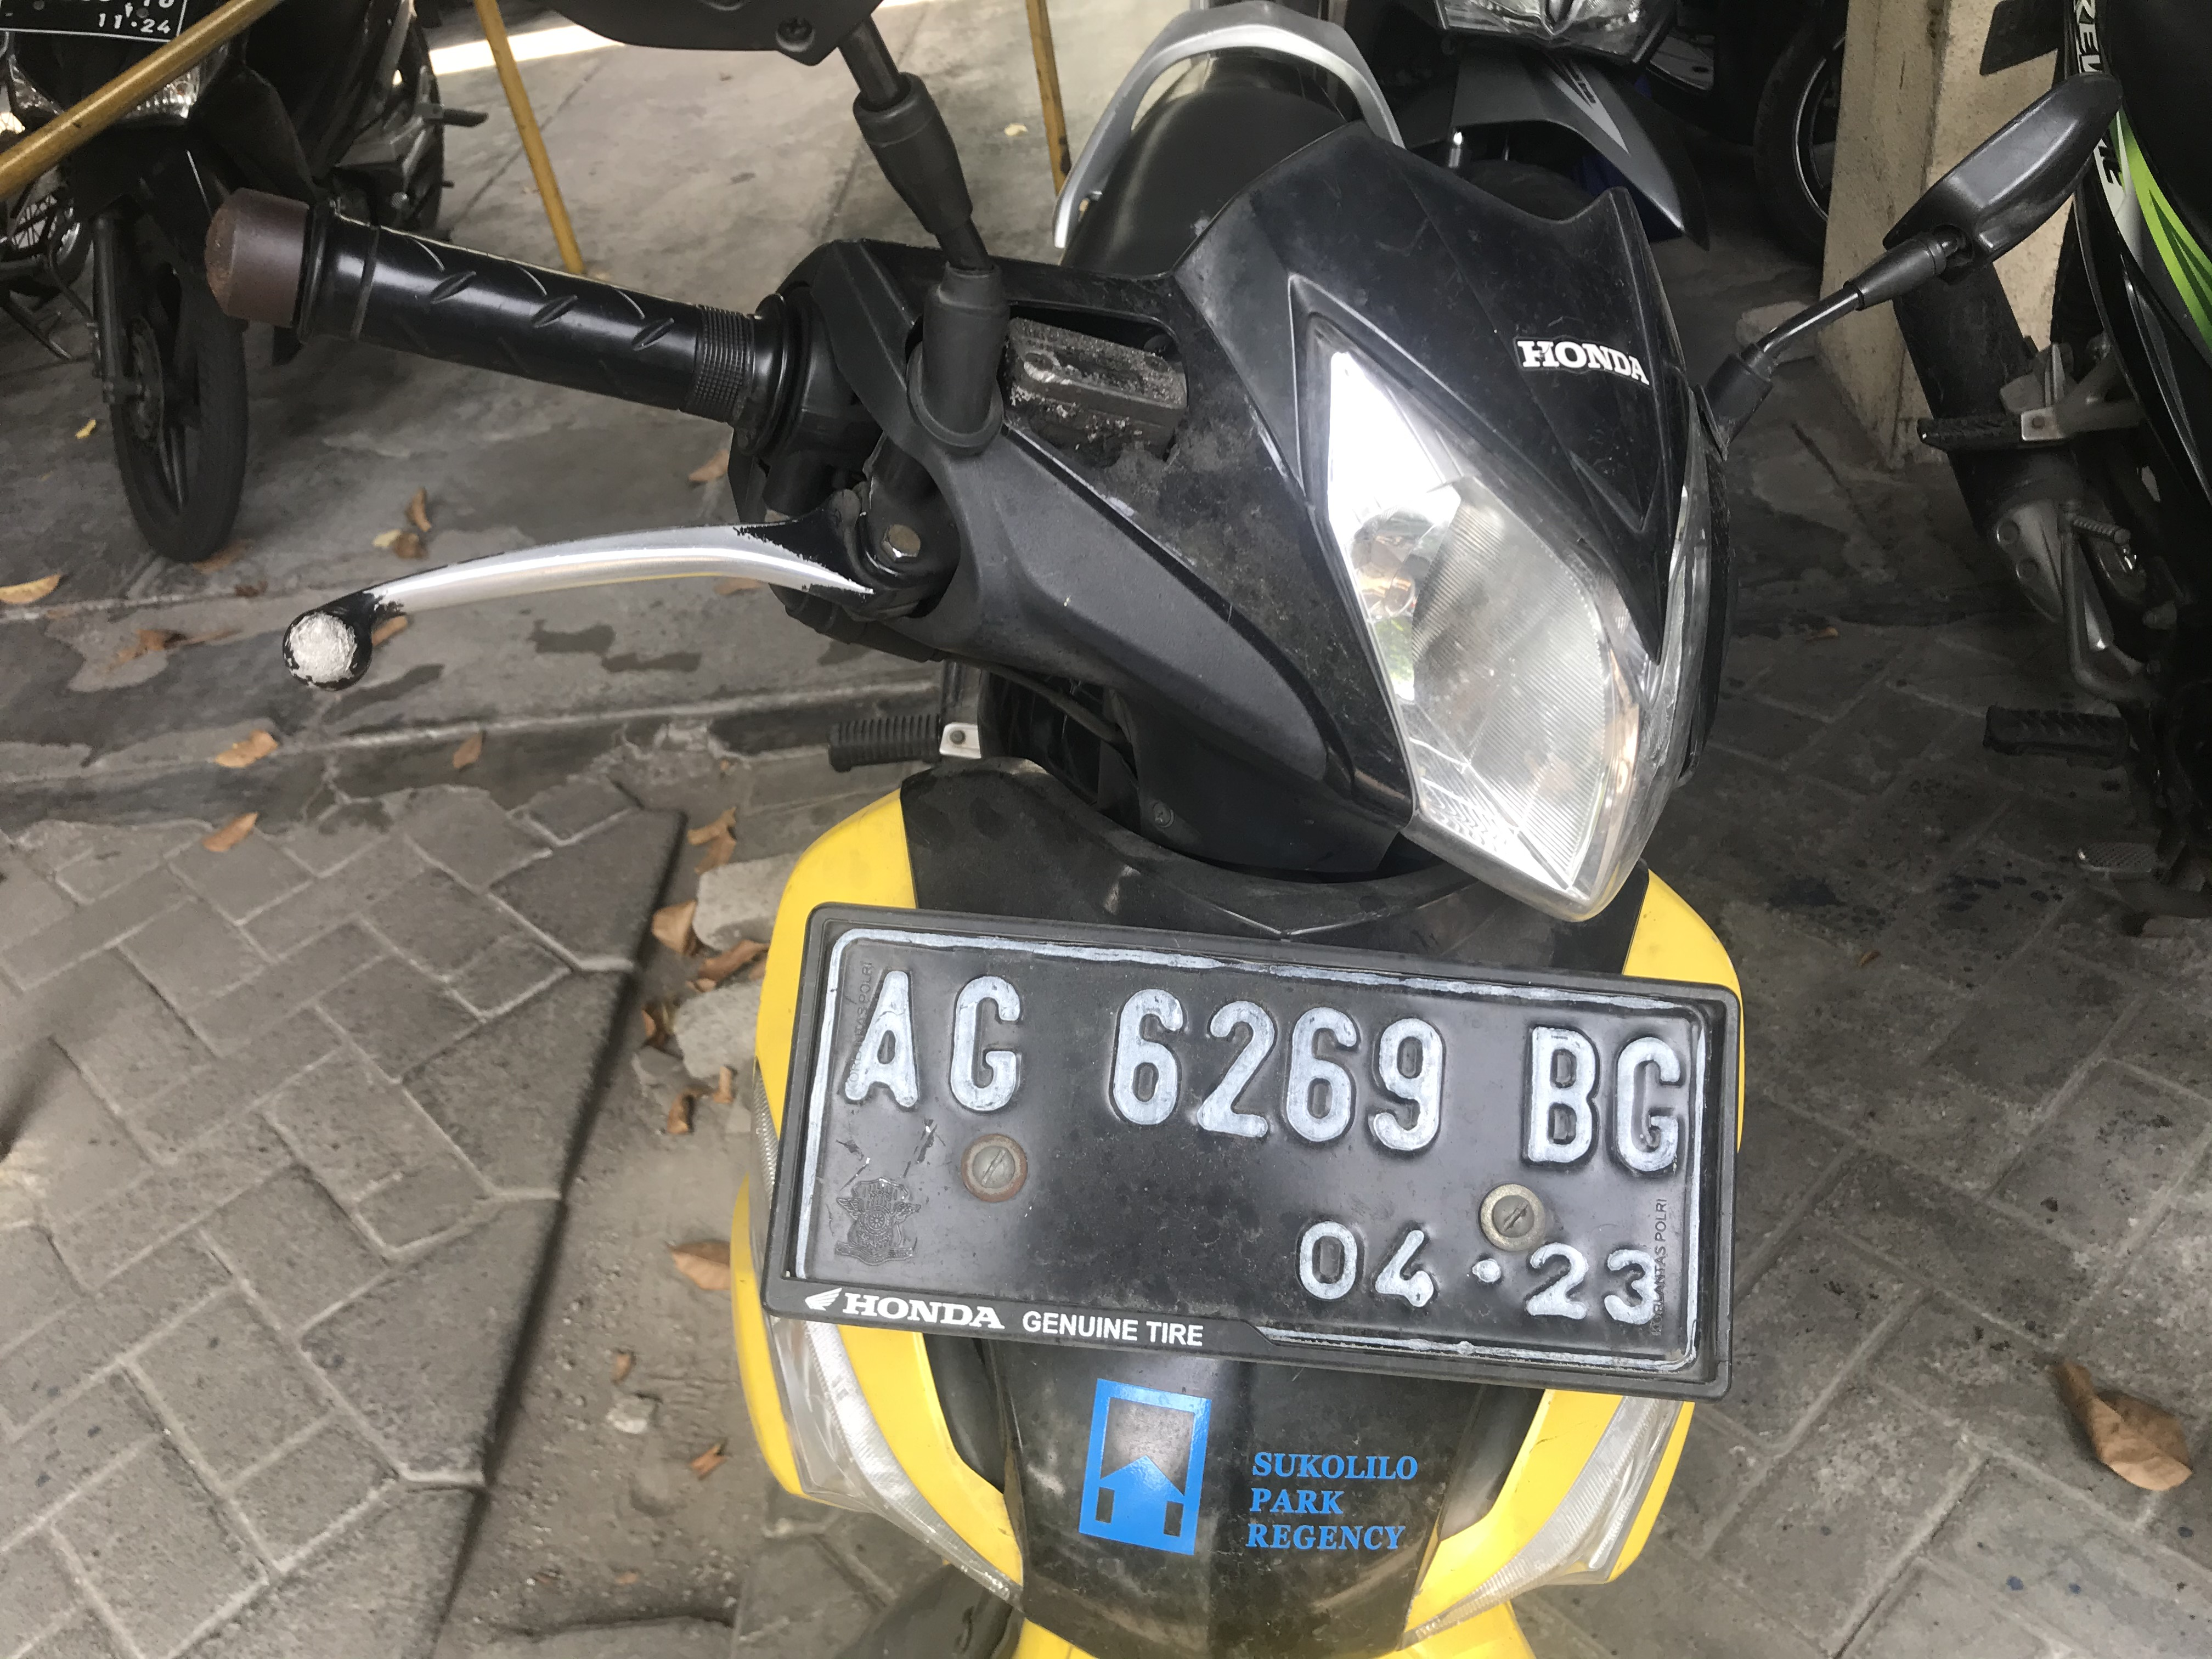plate: (776, 910, 1732, 1390)
